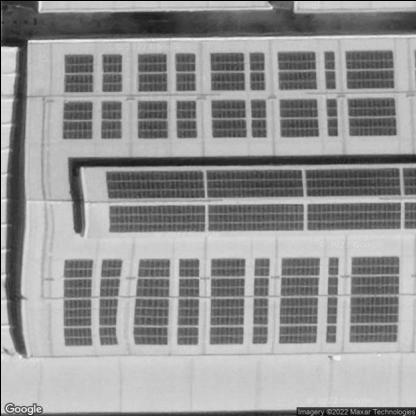solar-pv-panel: (109, 203, 416, 232), (105, 167, 416, 195), (348, 257, 400, 340), (278, 256, 320, 343), (131, 258, 169, 346), (207, 258, 244, 345), (63, 260, 93, 344), (99, 258, 123, 344), (177, 258, 199, 346), (346, 49, 393, 88), (347, 97, 396, 134), (251, 258, 270, 344), (277, 52, 317, 89), (281, 98, 319, 136), (210, 99, 248, 136), (210, 52, 244, 90), (135, 51, 166, 91), (325, 257, 339, 343), (62, 100, 94, 137), (136, 100, 168, 136), (63, 54, 92, 92), (101, 53, 124, 91), (176, 101, 197, 140), (173, 53, 195, 90), (100, 103, 122, 138), (249, 99, 268, 137), (248, 51, 265, 90), (325, 98, 338, 137), (323, 52, 335, 89)
